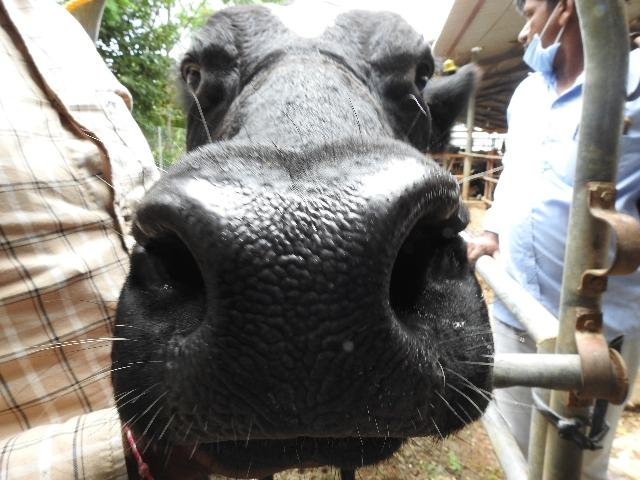Muzzle: (176, 188, 417, 428)
